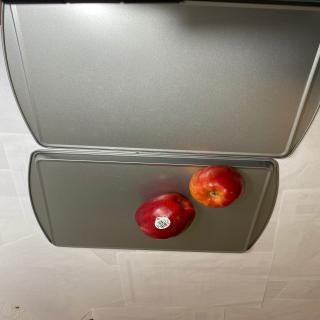Apple: (135, 193, 195, 240), (189, 164, 245, 208)
